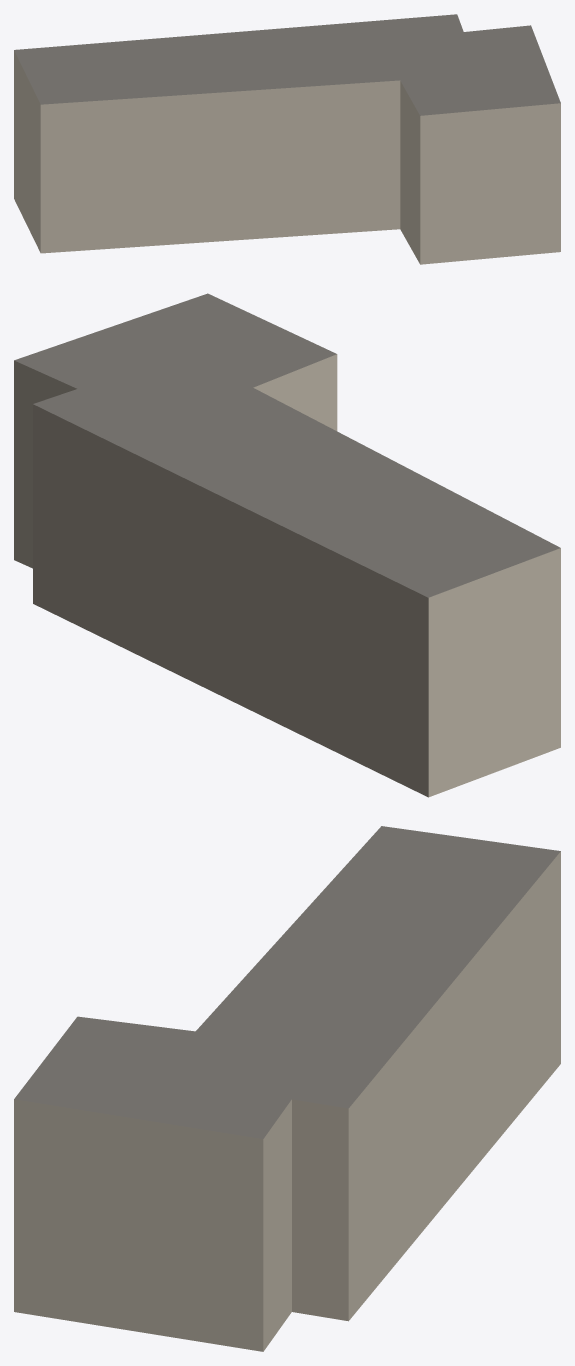
3 views of the same model, one above another, from view 1: azimuth 30°, elevation 25°; view 2: azimuth 150°, elevation 25°; view 3: azimuth 270°, elevation 25° (orthographic). The views are drawn at different scales.
Visible parts, largest first — view 1: HP-w505636153; view 2: HP-w505636153; view 3: HP-w505636153.
Boxes of the visible parts, x1,y1,x2,y2 form: HP-w505636153: (14,14,560,264); HP-w505636153: (14,293,560,797); HP-w505636153: (14,826,560,1351).
Size of the model in its own units: 56.83 by 18 by 41.94.
